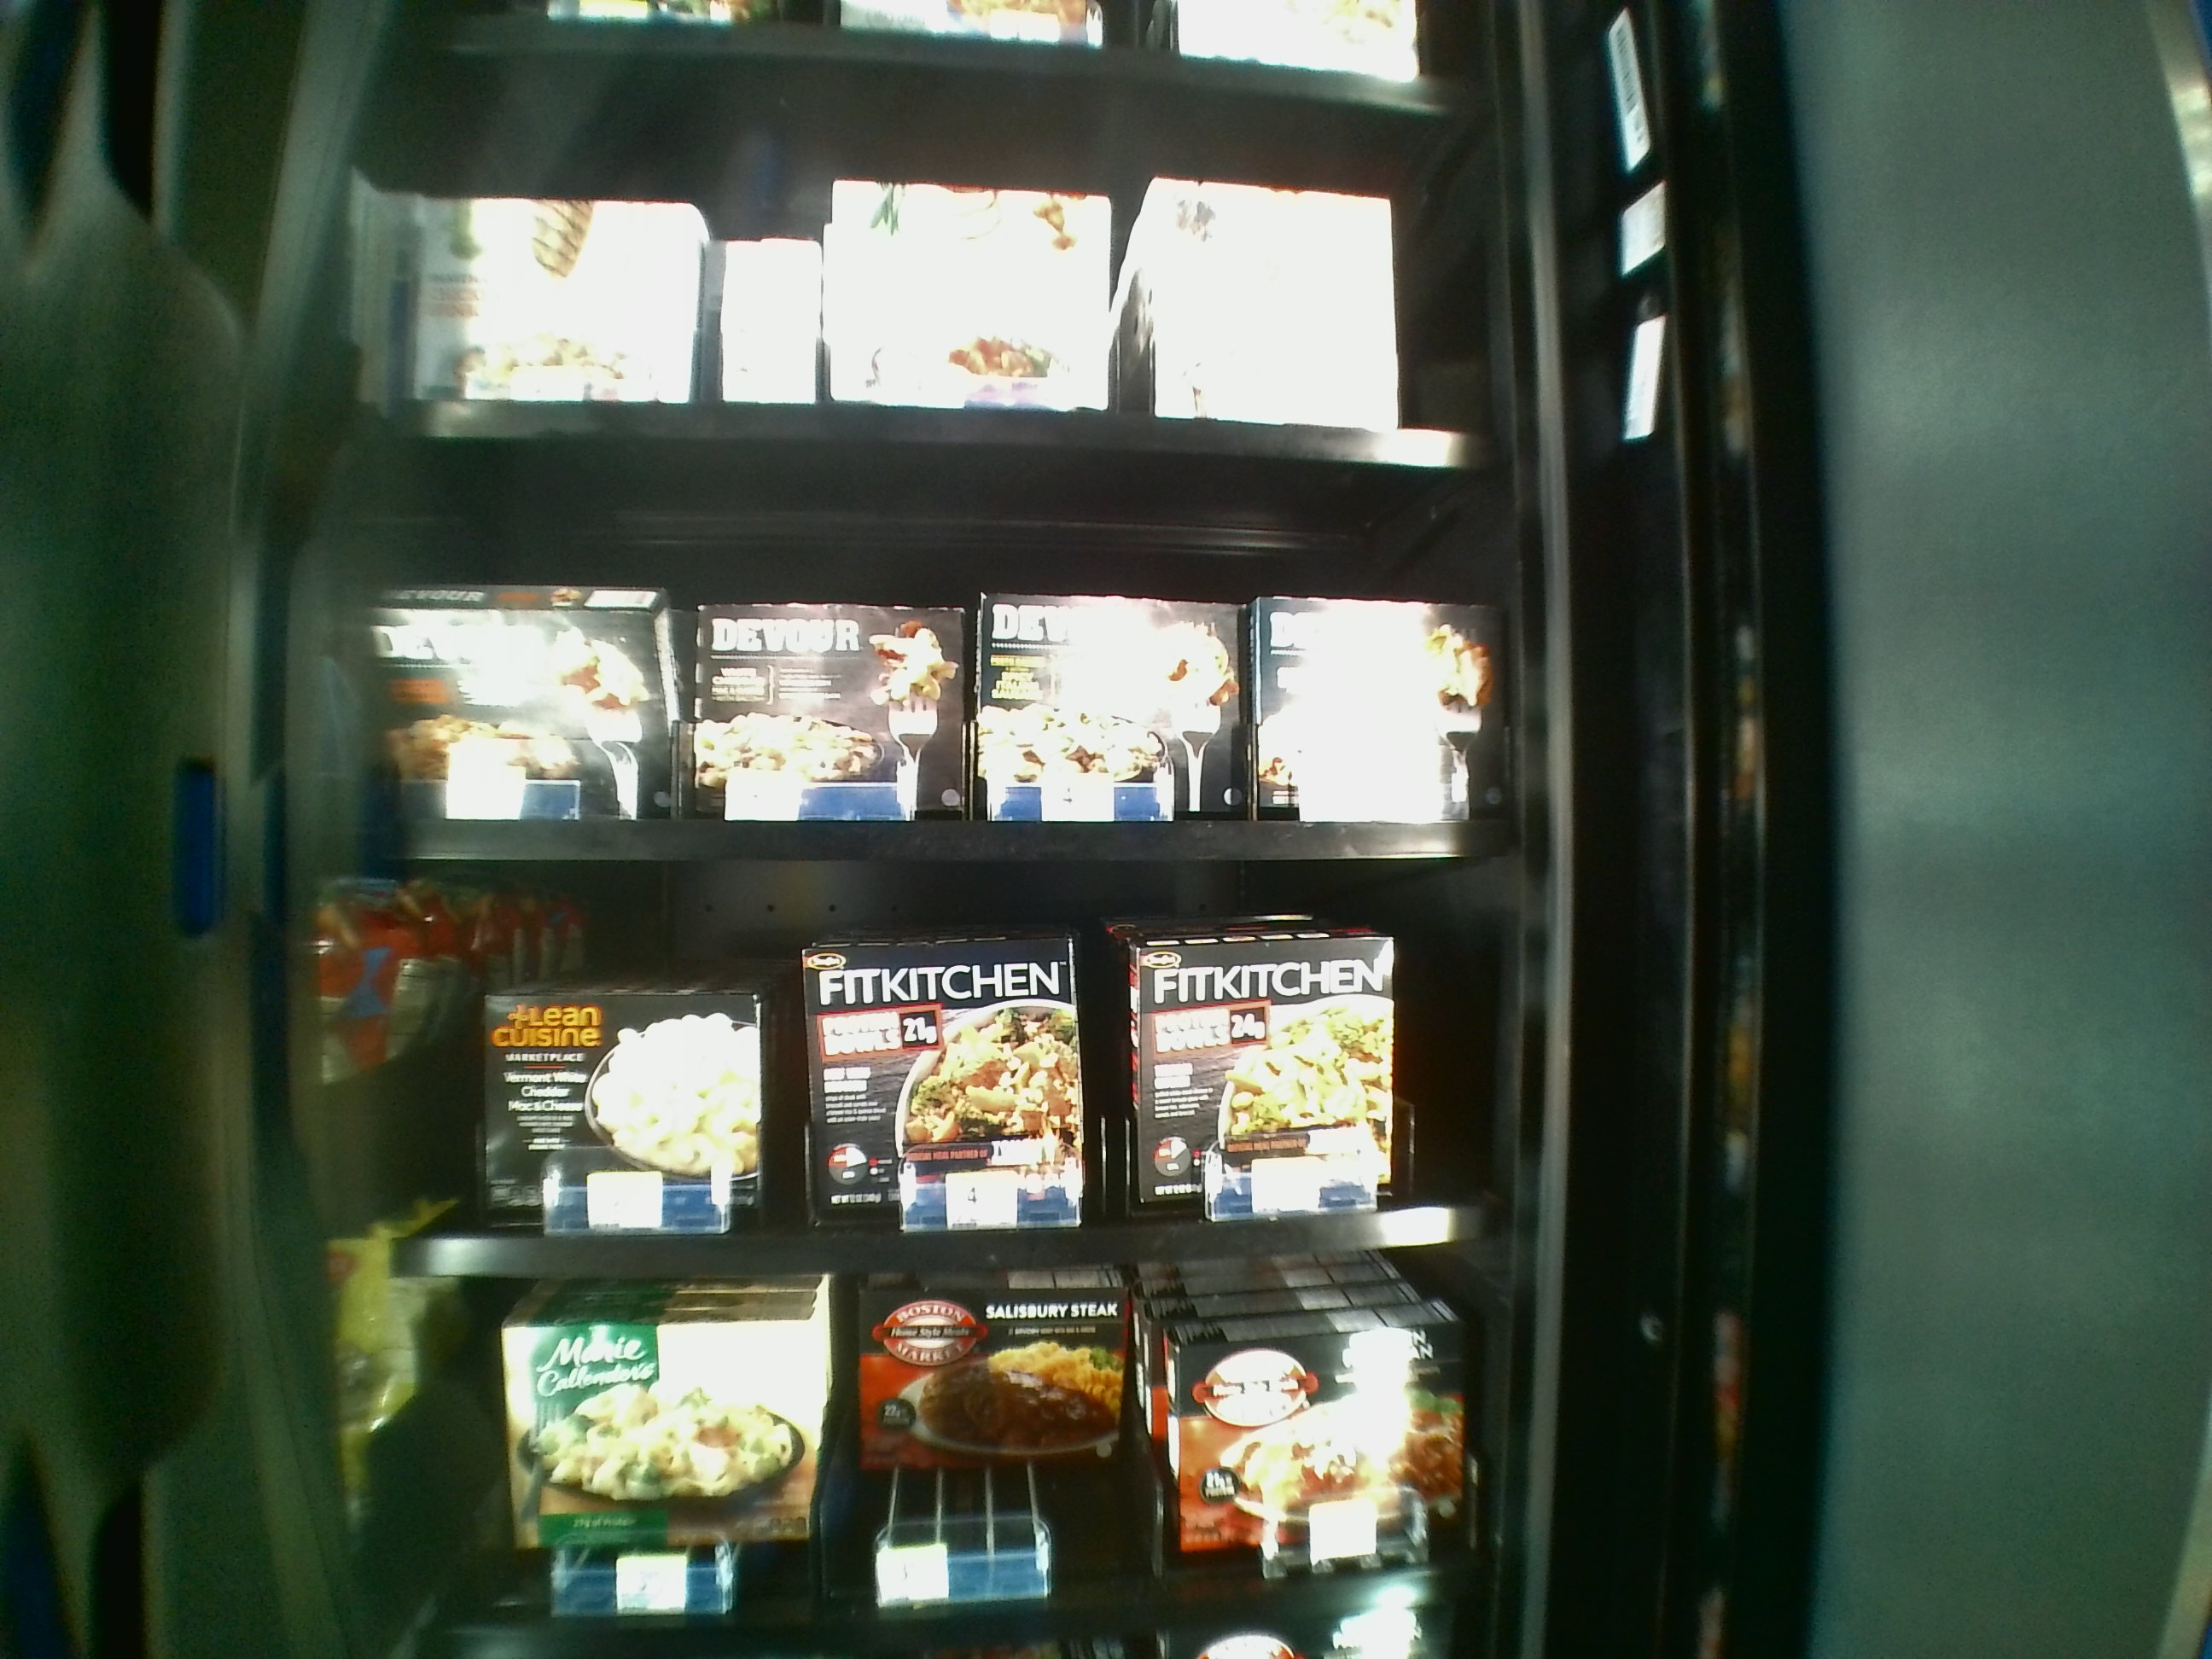shelf: (371, 441, 1519, 859), (369, 873, 1521, 1274)
